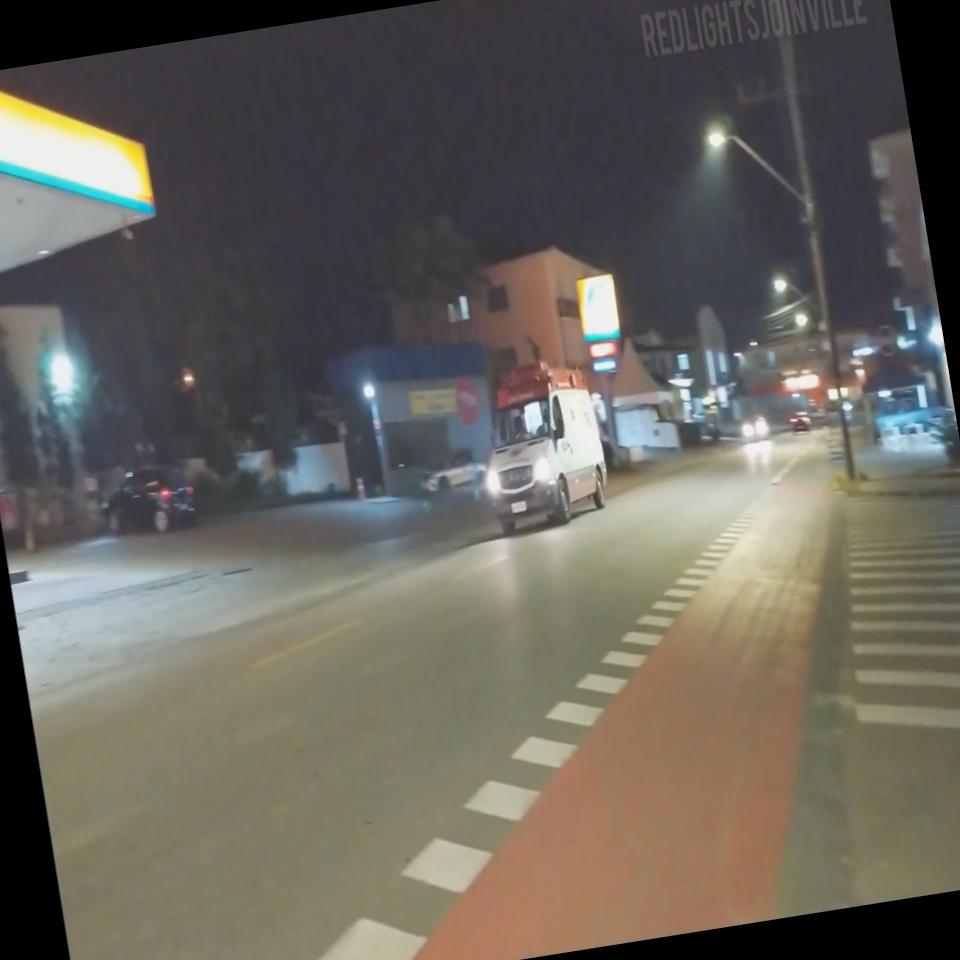bombeiro: (466, 350, 616, 542)
